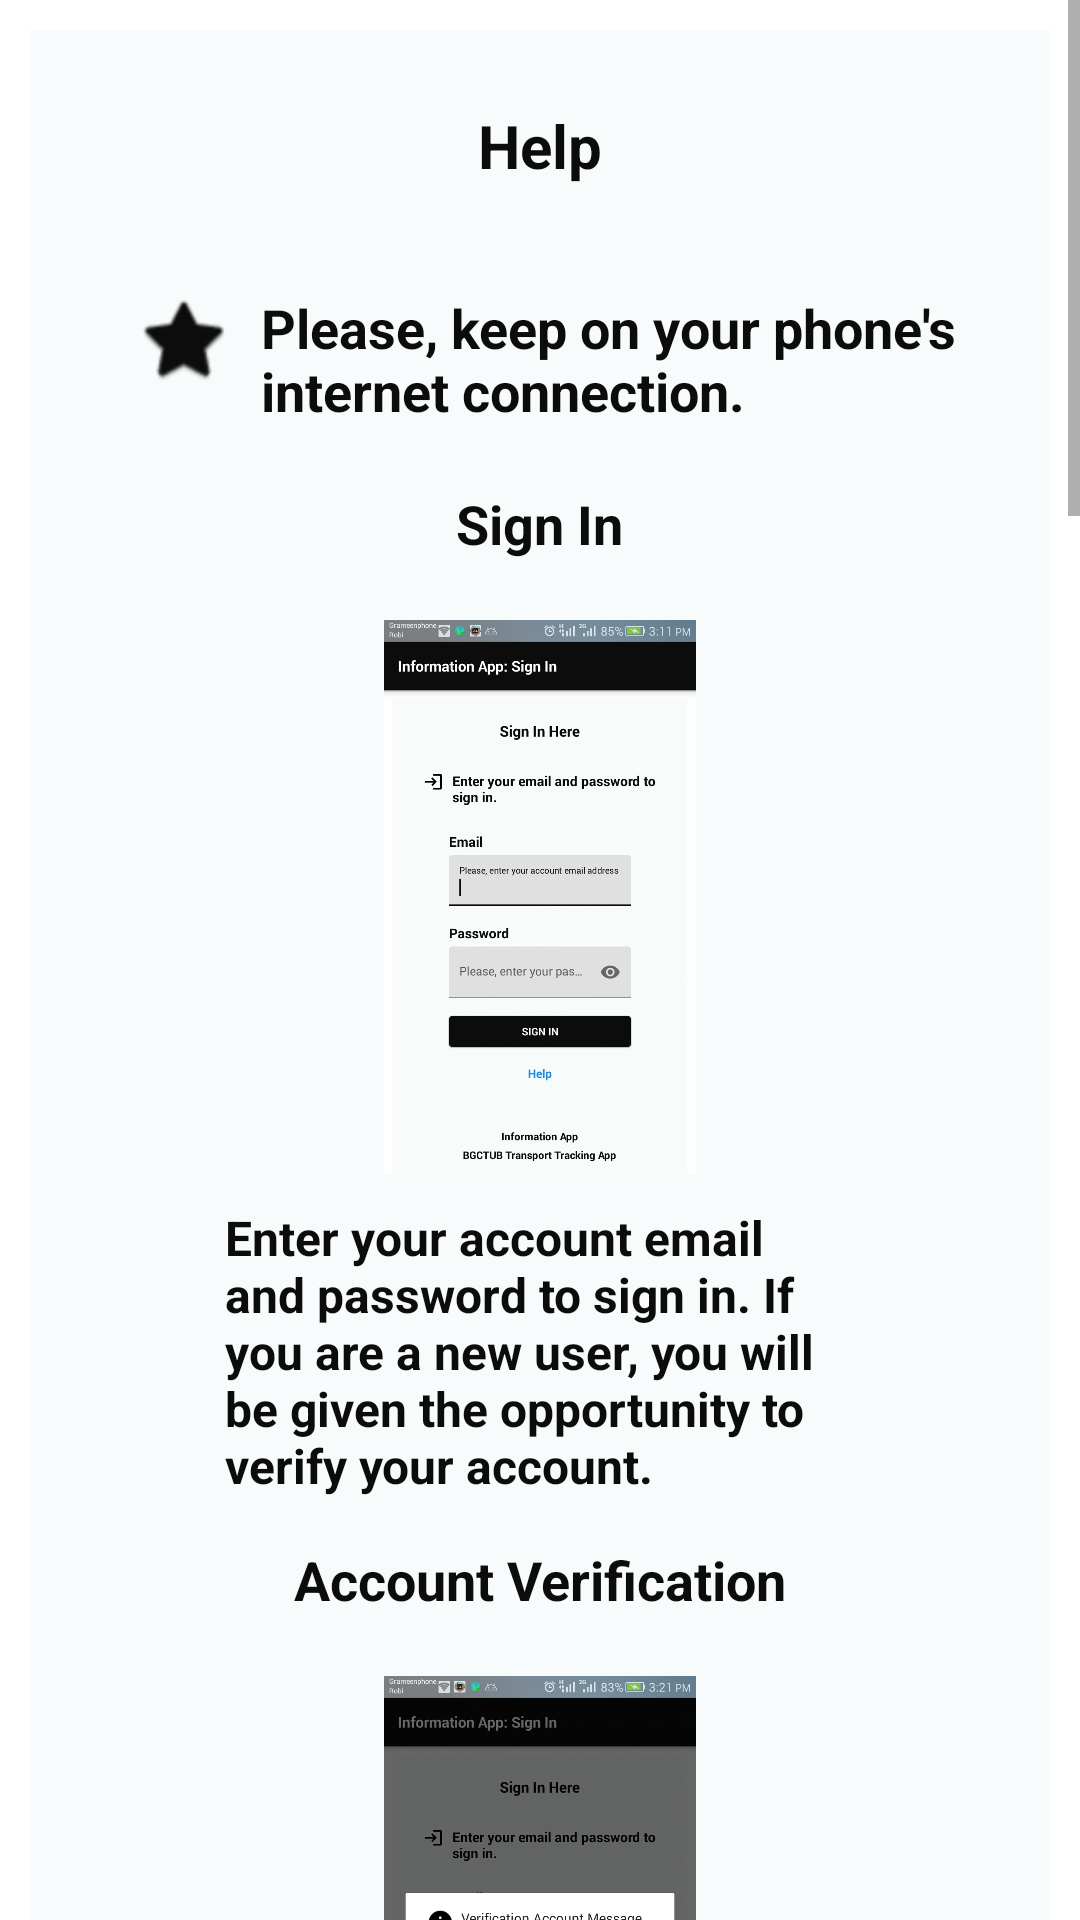

Point at icon controls on the screen. Image size 1080 × 1920, points as point (x, y).
star: point (184, 340)
